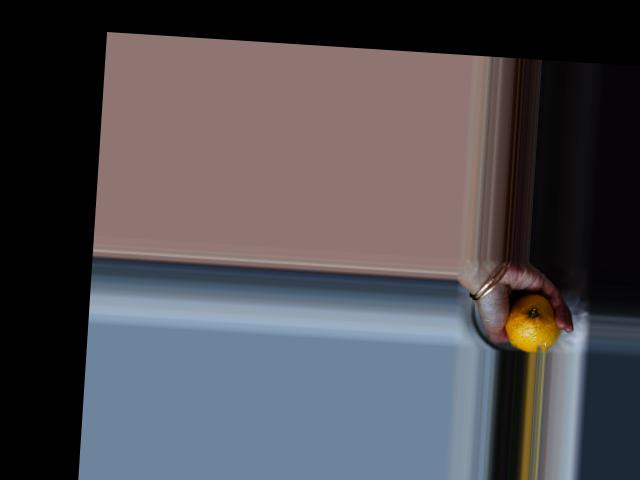lemon: (506, 291, 562, 352)
